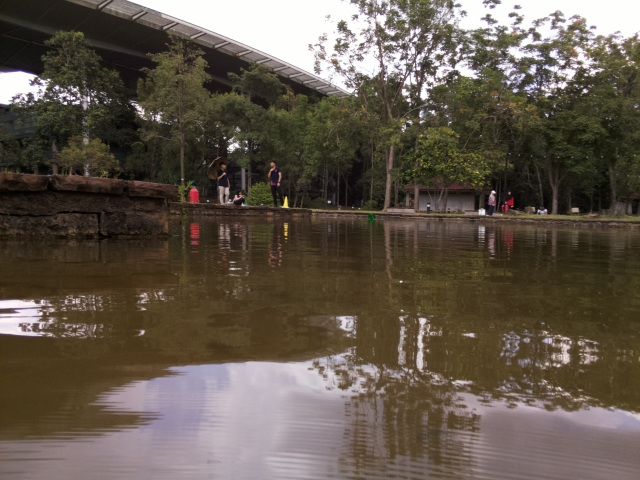checkpoint: (280, 196, 291, 209)
obstacle: (367, 213, 377, 221)
